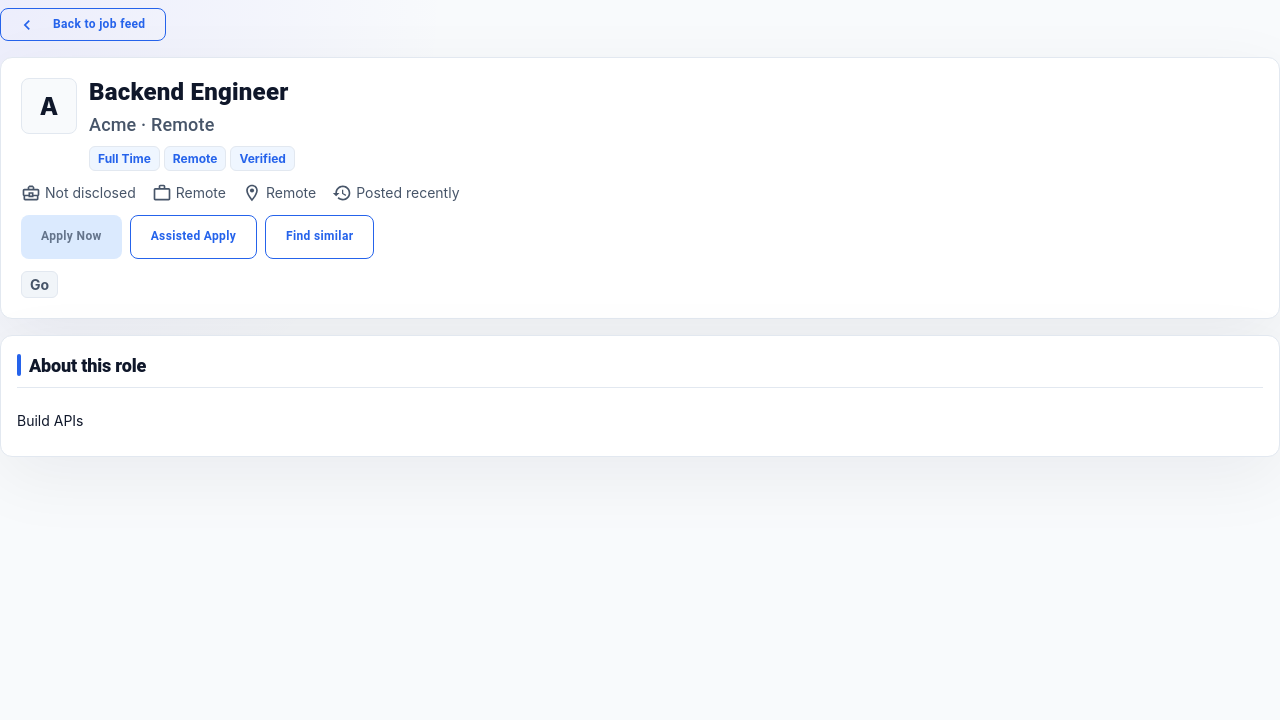
Test: JobDetailPage › shows an empty similar-jobs card when none are returned
Expected: the heading "Backend Engineer" is shown, [89,78,288,106]
Click the button "Find similar": (320, 237) [265,215,374,259]
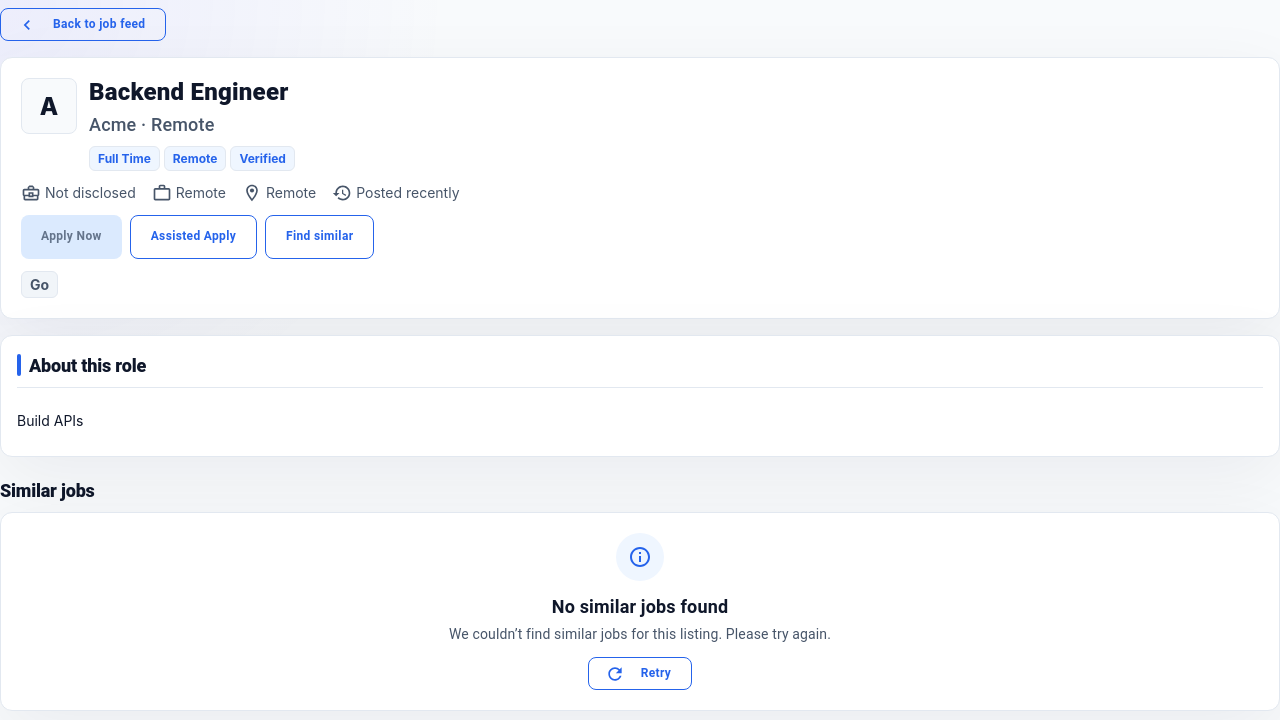
Result: the heading "Similar jobs" is shown at [0,480,95,501]
Result: the heading "No similar jobs found" is shown at [552,596,728,617]
Result: the message shows "We couldn’t find similar jobs for this listing" at [449,626,831,642]
